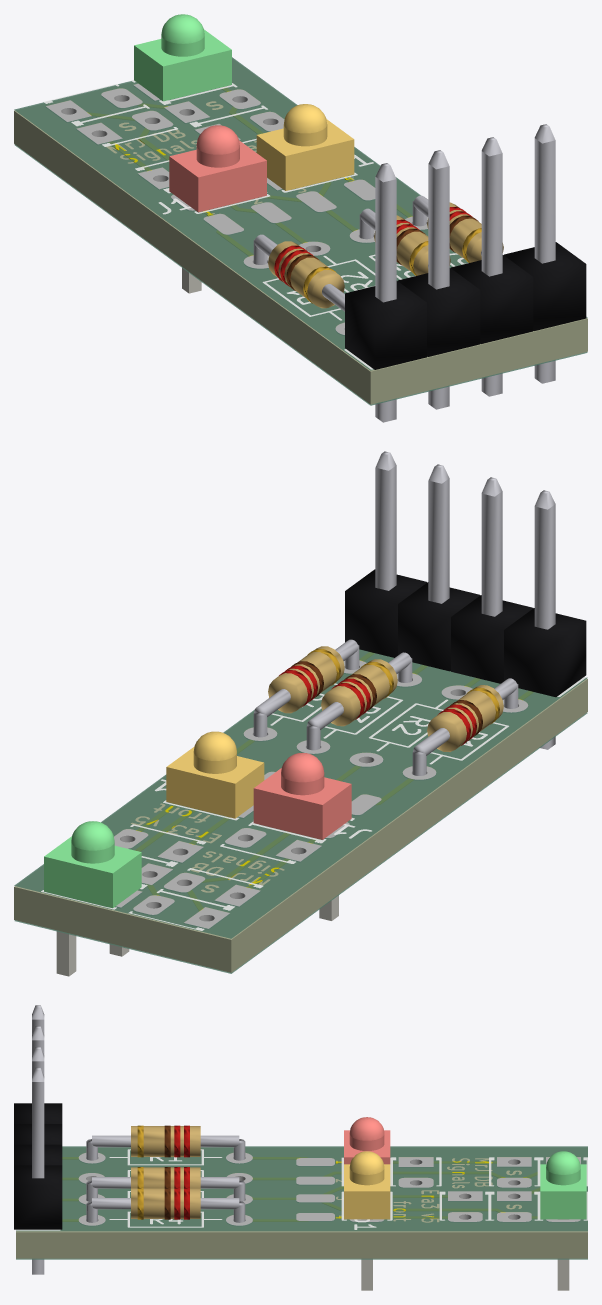
The model's file is MrJ-DB-Era3-breadboard-entry.glb.
The picture shows the model from 3 angles, top to bottom: view 1: azimuth 30°, elevation 25°; view 2: azimuth 150°, elevation 25°; view 3: azimuth 270°, elevation 25°; orthographic projection. The views are drawn at different scales.
Visible parts, largest first — view 1: =>[0:1:1:17], =>[0:1:1:3] (×4), =>[0:1:1:15], =>[0:1:1:5] (×3), =>[0:1:1:13], =>[0:1:1:9], =>[0:1:1:11], =>[0:1:1:7], =>[0:1:1:14], =>[0:1:1:12], =>[0:1:1:16]; view 2: =>[0:1:1:17], =>[0:1:1:15], =>[0:1:1:3] (×4), =>[0:1:1:5] (×3), =>[0:1:1:13], =>[0:1:1:11], =>[0:1:1:9], =>[0:1:1:7], =>[0:1:1:14], =>[0:1:1:12], =>[0:1:1:16]; view 3: =>[0:1:1:17], =>[0:1:1:15], =>[0:1:1:5] (×3), =>[0:1:1:3] (×4), =>[0:1:1:13], =>[0:1:1:11], =>[0:1:1:7], =>[0:1:1:14], =>[0:1:1:9], =>[0:1:1:12], =>[0:1:1:16].
Part boxes in pixels (x1,y1,x2,y2): =>[0:1:1:17]: [14, 59, 587, 404]; =>[0:1:1:3] (×4): [345, 124, 586, 422]; =>[0:1:1:15]: [14, 57, 587, 370]; =>[0:1:1:5] (×3): [253, 195, 503, 311]; =>[0:1:1:13]: [46, 83, 427, 335]; =>[0:1:1:9]: [169, 125, 266, 293]; =>[0:1:1:11]: [134, 14, 231, 101]; =>[0:1:1:7]: [256, 104, 354, 190]; =>[0:1:1:14]: [44, 80, 586, 369]; =>[0:1:1:12]: [87, 88, 412, 256]; =>[0:1:1:16]: [14, 144, 587, 405]; =>[0:1:1:17]: [14, 650, 587, 972]; =>[0:1:1:15]: [14, 649, 587, 938]; =>[0:1:1:3] (×4): [345, 451, 586, 749]; =>[0:1:1:5] (×3): [253, 639, 518, 775]; =>[0:1:1:13]: [114, 660, 527, 929]; =>[0:1:1:11]: [44, 821, 141, 976]; =>[0:1:1:9]: [253, 752, 351, 920]; =>[0:1:1:7]: [166, 731, 264, 818]; =>[0:1:1:14]: [41, 676, 586, 930]; =>[0:1:1:12]: [136, 652, 532, 910]; =>[0:1:1:16]: [14, 713, 587, 973]; =>[0:1:1:17]: [16, 1148, 587, 1258]; =>[0:1:1:15]: [16, 1146, 587, 1231]; =>[0:1:1:5] (×3): [86, 1125, 245, 1222]; =>[0:1:1:3] (×4): [14, 1005, 62, 1274]; =>[0:1:1:13]: [78, 1153, 580, 1225]; =>[0:1:1:11]: [540, 1151, 586, 1290]; =>[0:1:1:7]: [344, 1151, 390, 1290]; =>[0:1:1:14]: [16, 1149, 587, 1230]; =>[0:1:1:9]: [344, 1117, 390, 1164]; =>[0:1:1:12]: [63, 1157, 539, 1221]; =>[0:1:1:16]: [16, 1258, 587, 1259].
Size of the model in its own units: 0.0104 by 0.0127 by 0.0297.
